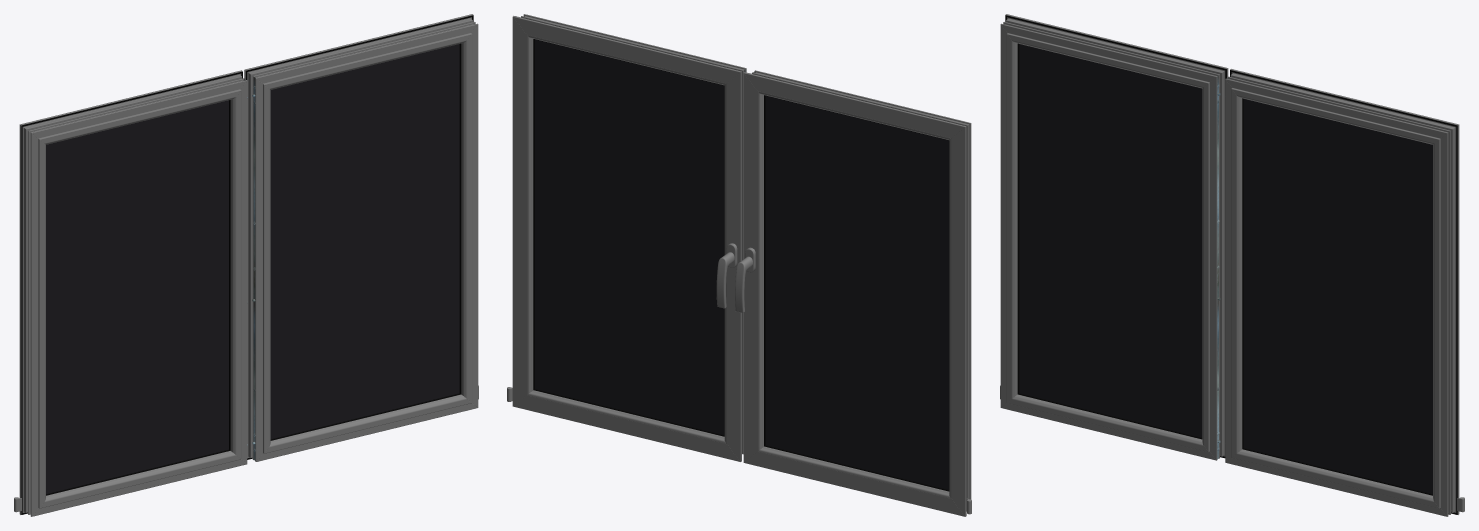
File: chuanghu.FBX
3 views of the same model, side by side, from view 1: azimuth 30°, elevation 25°; view 2: azimuth 150°, elevation 25°; view 3: azimuth 330°, elevation 25° (orthographic).
Parts seen in each view (by area): view 1: AM109_007_005, AM109_007_004; view 2: AM109_007_005, AM109_007_004; view 3: AM109_007_005, AM109_007_004.
Boxes of the visible parts, x1,y1,x2,y2 form: AM109_007_005: (244, 14, 478, 461); AM109_007_004: (14, 70, 247, 516); AM109_007_005: (507, 14, 746, 461); AM109_007_004: (735, 70, 971, 516); AM109_007_005: (1225, 69, 1464, 516); AM109_007_004: (1000, 14, 1228, 460).
Bounding box in the file's own units: 270 × 216 × 22.5.
Materials: 6 (1 with a texture image).
